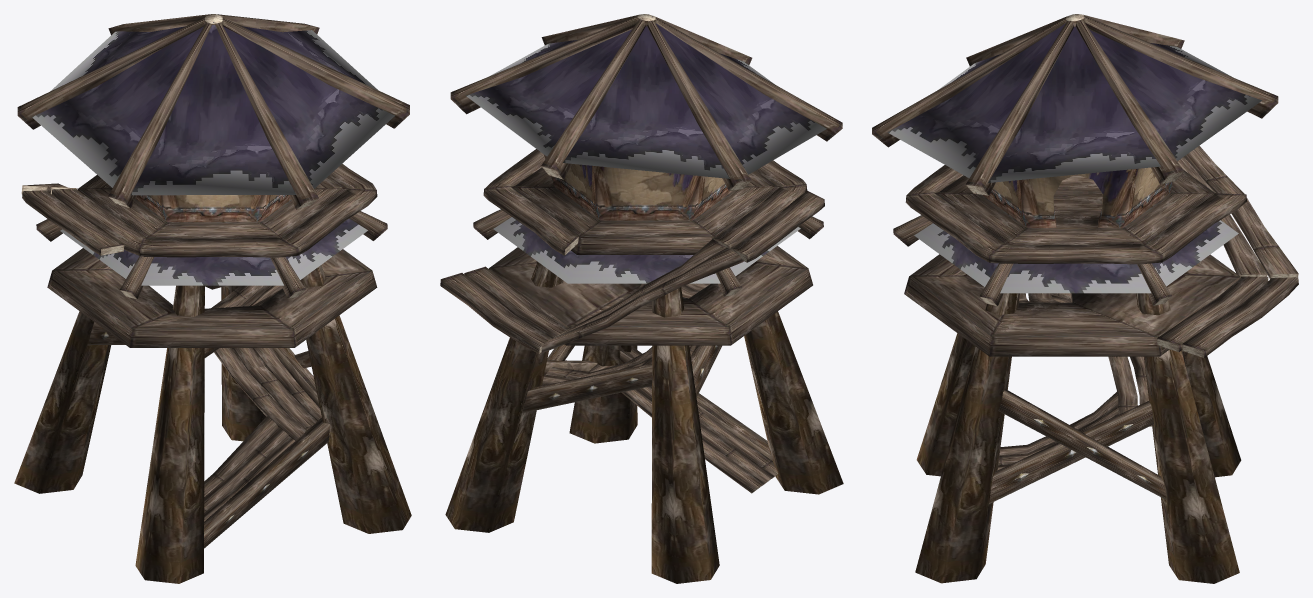
The model's file is watchTower.glb.
The picture shows the model from 3 angles, left to right: view 1: azimuth 30°, elevation 25°; view 2: azimuth 150°, elevation 25°; view 3: azimuth 270°, elevation 25°; orthographic projection. The views are drawn at different scales.
Parts seen in each view (by area): view 1: abandonedorctower_alt_TowerInterior011, abandonedorctower_alt_TowerInterior013, abandonedorctower_alt_TowerExterior011, abandonedorctower_alt_TowerExterior012, abandonedorctower_alt_TowerInterior012, abandonedorctower_alt_TowerInterior016; view 2: abandonedorctower_alt_TowerInterior011, abandonedorctower_alt_TowerExterior011, abandonedorctower_alt_TowerInterior013, abandonedorctower_alt_TowerInterior012, abandonedorctower_alt_TowerExterior012, abandonedorctower_alt_TowerInterior016; view 3: abandonedorctower_alt_TowerInterior011, abandonedorctower_alt_TowerInterior013, abandonedorctower_alt_TowerExterior011, abandonedorctower_alt_TowerExterior012, abandonedorctower_alt_TowerInterior012, abandonedorctower_alt_TowerInterior016.
Part boxes in pixels (x1,y1,x2,y2): abandonedorctower_alt_TowerInterior011: (17, 14, 409, 521); abandonedorctower_alt_TowerInterior013: (32, 22, 394, 285); abandonedorctower_alt_TowerExterior011: (14, 21, 411, 583); abandonedorctower_alt_TowerExterior012: (87, 288, 329, 548); abandonedorctower_alt_TowerInterior012: (135, 195, 291, 222); abandonedorctower_alt_TowerInterior016: (21, 14, 318, 299); abandonedorctower_alt_TowerInterior011: (440, 15, 842, 493); abandonedorctower_alt_TowerExterior011: (445, 18, 843, 583); abandonedorctower_alt_TowerInterior013: (465, 16, 826, 283); abandonedorctower_alt_TowerInterior012: (544, 155, 733, 220); abandonedorctower_alt_TowerExterior012: (522, 344, 772, 460); abandonedorctower_alt_TowerInterior016: (539, 14, 777, 492); abandonedorctower_alt_TowerInterior011: (872, 14, 1298, 470); abandonedorctower_alt_TowerInterior013: (887, 16, 1262, 293); abandonedorctower_alt_TowerExterior011: (915, 18, 1241, 583); abandonedorctower_alt_TowerExterior012: (989, 350, 1186, 503); abandonedorctower_alt_TowerInterior012: (982, 161, 1178, 228); abandonedorctower_alt_TowerInterior016: (966, 14, 1298, 426).
Bounding box in the file's own units: 25.44 × 38.83 × 30.07.
Materials: 9 (9 with a texture image).
